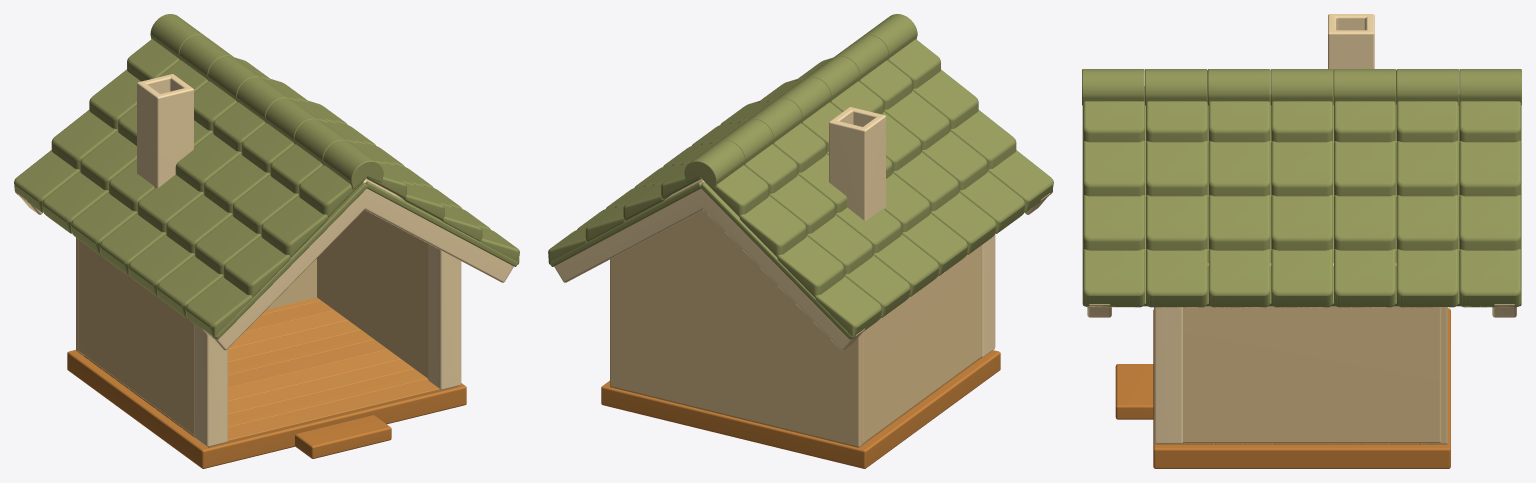
File: olive_tile_open_house.glb
3 renders of one model, left to right at view 1: azimuth 30°, elevation 25°; view 2: azimuth 150°, elevation 25°; view 3: azimuth 270°, elevation 25°, orthographic. The views are drawn at different scales.
Parts seen in each view (by area): view 1: side_wall, side_wall.001, foundation, continuous_gable_trim, continuous_hollow_chimney, front_post.001, front_post, floor_plank_00, floor_plank_01, front_step, floor_plank_02, floor_plank_03 (+46 smaller); view 2: back_gable, side_wall, foundation, continuous_gable_trim.001, continuous_hollow_chimney, roof_tile_-1_1_6, roof_tile_-1_2_6, roof_tile_-1_3_6, roof_tile_-1_3_4, roof_tile_-1_3_1, roof_tile_-1_3_3, roof_tile_-1_3_5 (+34 smaller); view 3: side_wall.001, foundation, front_post.001, roof_tile_1_3_2, roof_tile_1_3_5, roof_tile_1_3_1, roof_tile_1_3_3, roof_tile_1_3_4, roof_tile_1_3_0, roof_tile_1_3_6, roof_tile_1_1_2, roof_tile_1_1_5 (+30 smaller).
Boxes of the visible parts, box(x1,y1,x2,y2) form: side_wall: box(78, 239, 194, 435); side_wall.001: box(317, 210, 428, 378); foundation: box(67, 350, 466, 468); continuous_gable_trim: box(203, 178, 513, 350); continuous_hollow_chimney: box(137, 74, 193, 188); front_post.001: box(428, 244, 461, 389); front_post: box(194, 325, 227, 446); floor_plank_00: box(208, 379, 457, 447); floor_plank_01: box(182, 369, 427, 437); front_step: box(295, 415, 391, 458); floor_plank_02: box(169, 359, 414, 428); floor_plank_03: box(156, 349, 400, 418); back_gable: box(610, 210, 867, 446); side_wall: box(862, 246, 981, 443); foundation: box(601, 350, 1000, 468); continuous_gable_trim.001: box(554, 178, 864, 350); continuous_hollow_chimney: box(829, 107, 885, 220); roof_tile_-1_1_6: box(739, 195, 806, 257); roof_tile_-1_2_6: box(777, 236, 844, 297); roof_tile_-1_3_6: box(815, 276, 881, 338); roof_tile_-1_3_4: box(873, 234, 939, 296); roof_tile_-1_3_1: box(959, 171, 1025, 233); roof_tile_-1_3_3: box(901, 213, 967, 275); roof_tile_-1_3_5: box(844, 255, 910, 317); side_wall.001: box(1183, 263, 1441, 443); foundation: box(1153, 308, 1450, 468); front_post.001: box(1154, 307, 1182, 443); roof_tile_1_3_2: box(1208, 249, 1270, 307); roof_tile_1_3_5: box(1396, 249, 1458, 307); roof_tile_1_3_1: box(1146, 249, 1207, 307); roof_tile_1_3_3: box(1271, 249, 1332, 307); roof_tile_1_3_4: box(1334, 249, 1395, 307); roof_tile_1_3_0: box(1083, 249, 1144, 307); roof_tile_1_3_6: box(1459, 249, 1520, 307); roof_tile_1_1_2: box(1208, 141, 1270, 196); roof_tile_1_1_5: box(1396, 141, 1458, 196).
Bounding box in the file's own units: 2.55 × 2.4 × 2.87.
